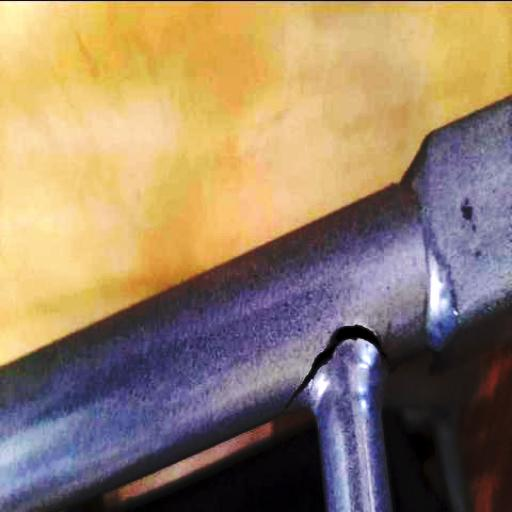crack: (268, 317, 420, 429)
